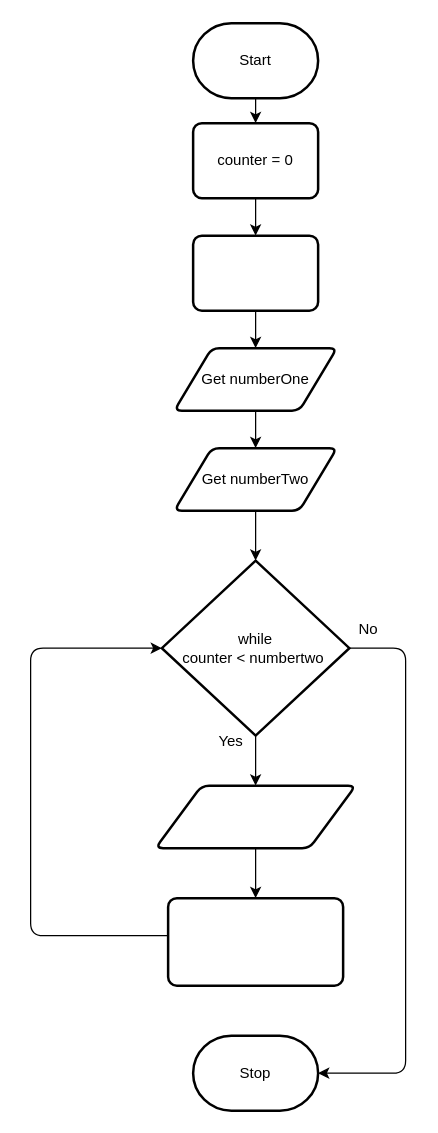
The diagram is 438 pixels wide and 1133 high, and some of its shapes have lost their labels. Here are the shapes that lost their labels. From the top down, the centre of each, then its label:
At (x=255, y=272): "answer = 0".
At (x=255, y=816): "counter = counter + 1".
At (x=255, y=941): "answer = answer + numberOne".
